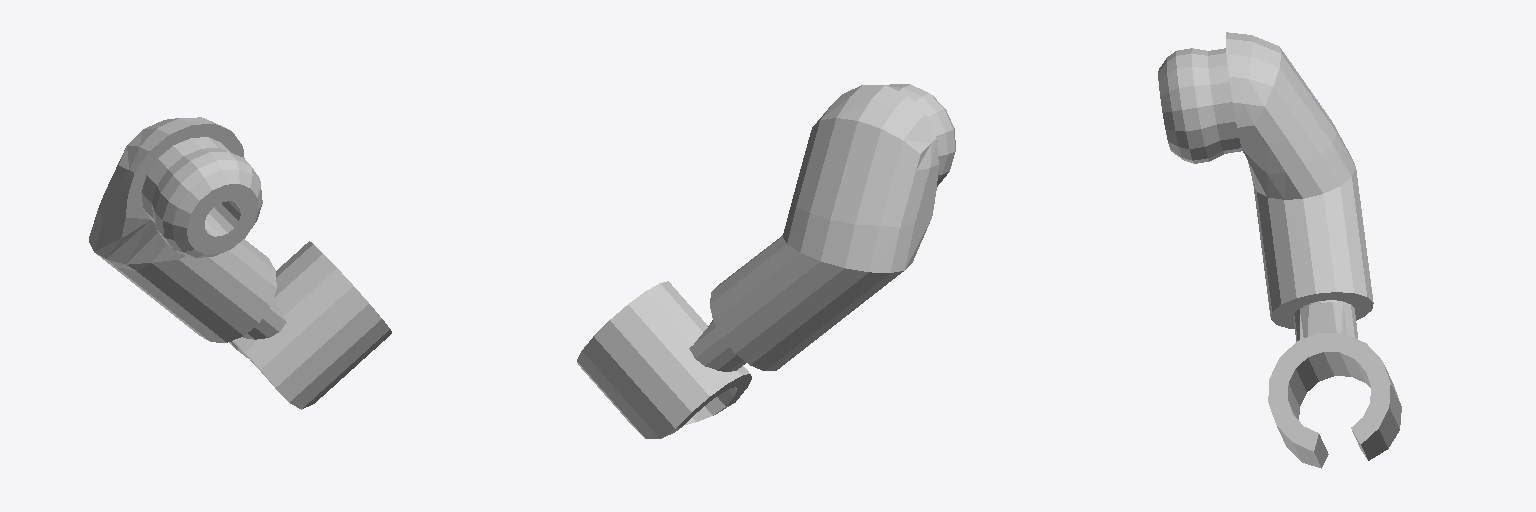
File: lHand.obj
The picture shows the model from 3 angles: view 1: azimuth 30°, elevation 25°; view 2: azimuth 150°, elevation 25°; view 3: azimuth 270°, elevation 25°; orthographic projection.
Parts seen in each view (by area): view 1: lHand4:pasted__pasted__lhand7; view 2: lHand4:pasted__pasted__lhand7; view 3: lHand4:pasted__pasted__lhand7.
Boxes of the visible parts, x1,y1,x2,y2 form: lHand4:pasted__pasted__lhand7: [89, 117, 391, 409]; lHand4:pasted__pasted__lhand7: [577, 84, 955, 438]; lHand4:pasted__pasted__lhand7: [1158, 32, 1401, 468].
Size of the model in its own units: 1.32 by 1.46 by 0.9332.